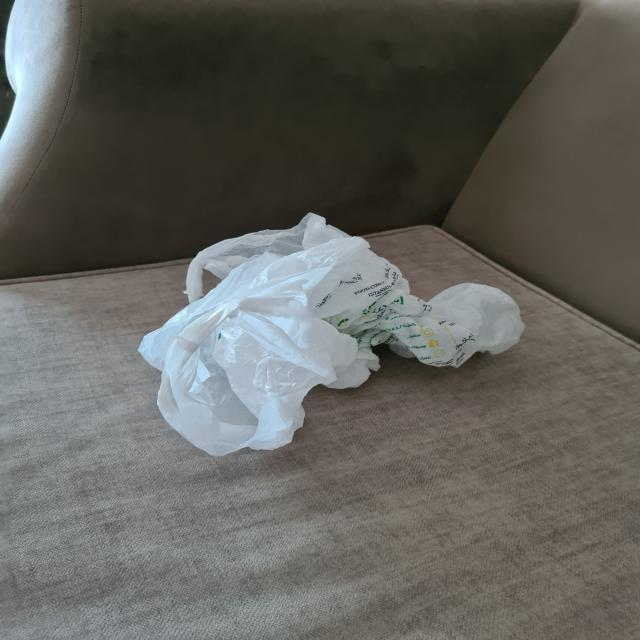plastic: (137, 212, 523, 453)
